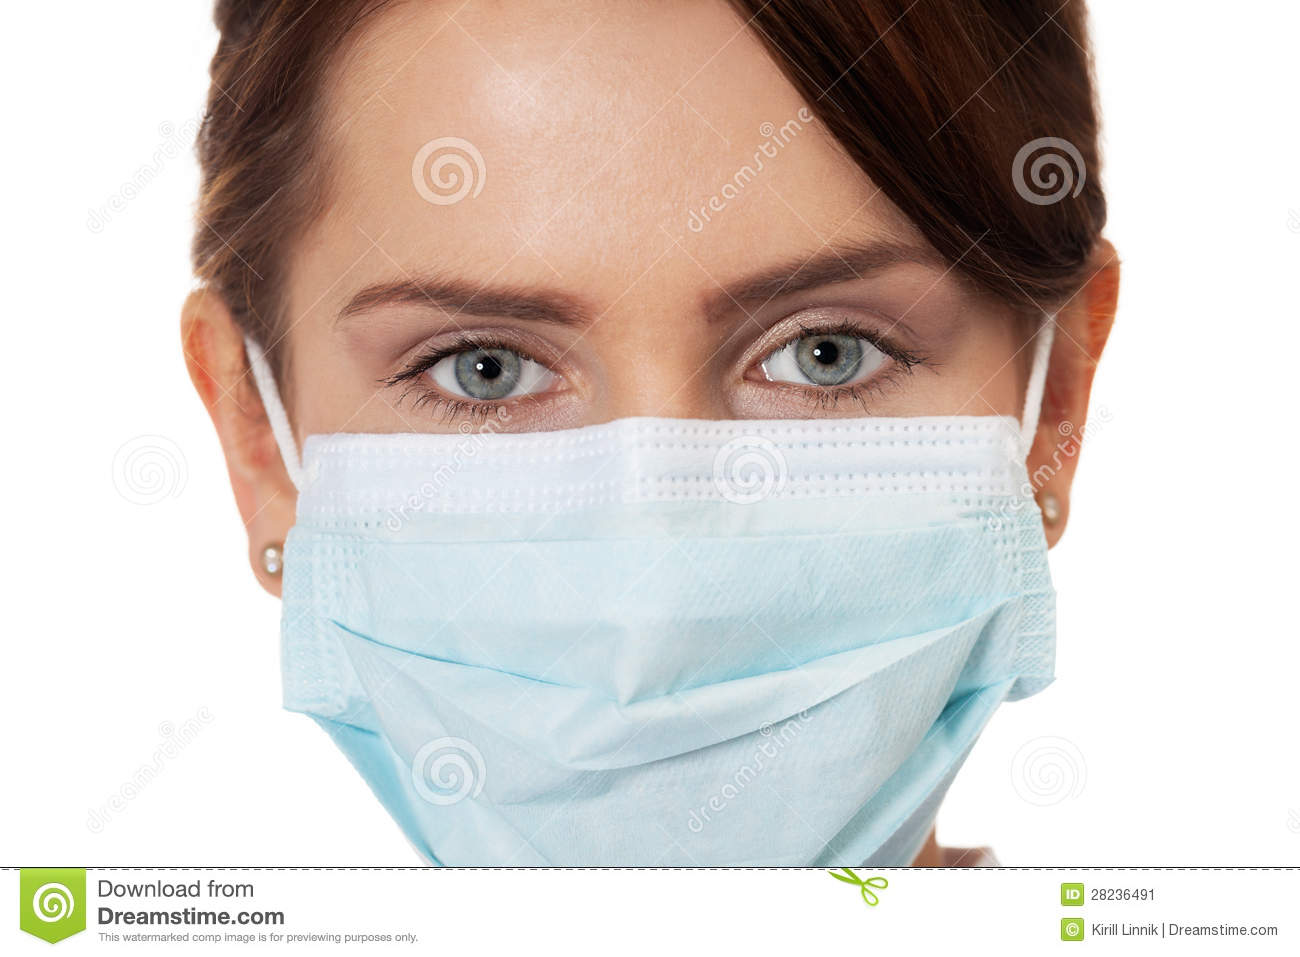mask: (270, 398, 1060, 866)
